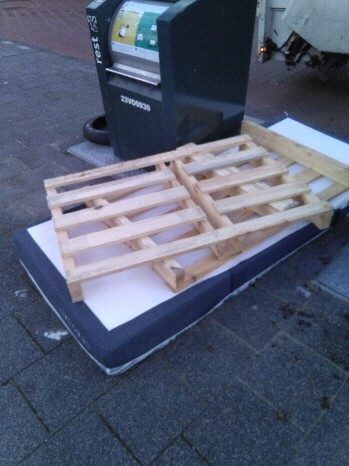Container: (95, 12, 240, 135)
Rest: (52, 139, 327, 365), (53, 139, 302, 249)
